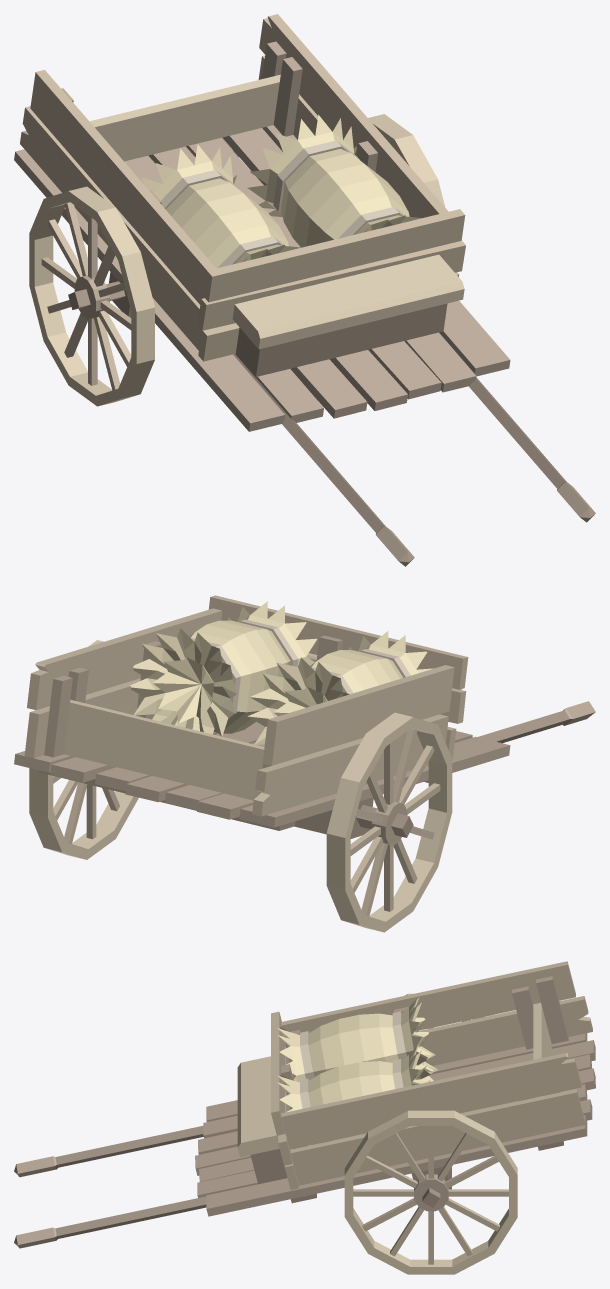
The model's file is Prop_Cart_1_Hay.glb.
3 views of the same model, one above another, from view 1: azimuth 30°, elevation 25°; view 2: azimuth 150°, elevation 25°; view 3: azimuth 270°, elevation 25° (orthographic). The views are drawn at different scales.
Visible parts, largest first — view 1: Prop_Cart_1_Hay; view 2: Prop_Cart_1_Hay; view 3: Prop_Cart_1_Hay.
Boxes of the visible parts, bbox=[...] form: Prop_Cart_1_Hay: bbox=[14, 14, 595, 566]; Prop_Cart_1_Hay: bbox=[14, 595, 595, 932]; Prop_Cart_1_Hay: bbox=[14, 961, 595, 1274].
Size of the model in its own units: 0.9 by 0.6515 by 1.68.
